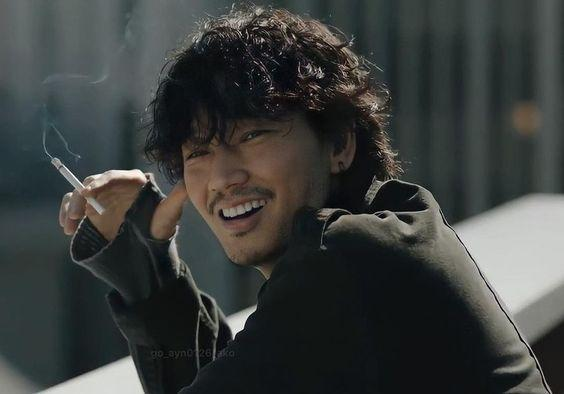cigarette: (50, 157, 106, 215)
